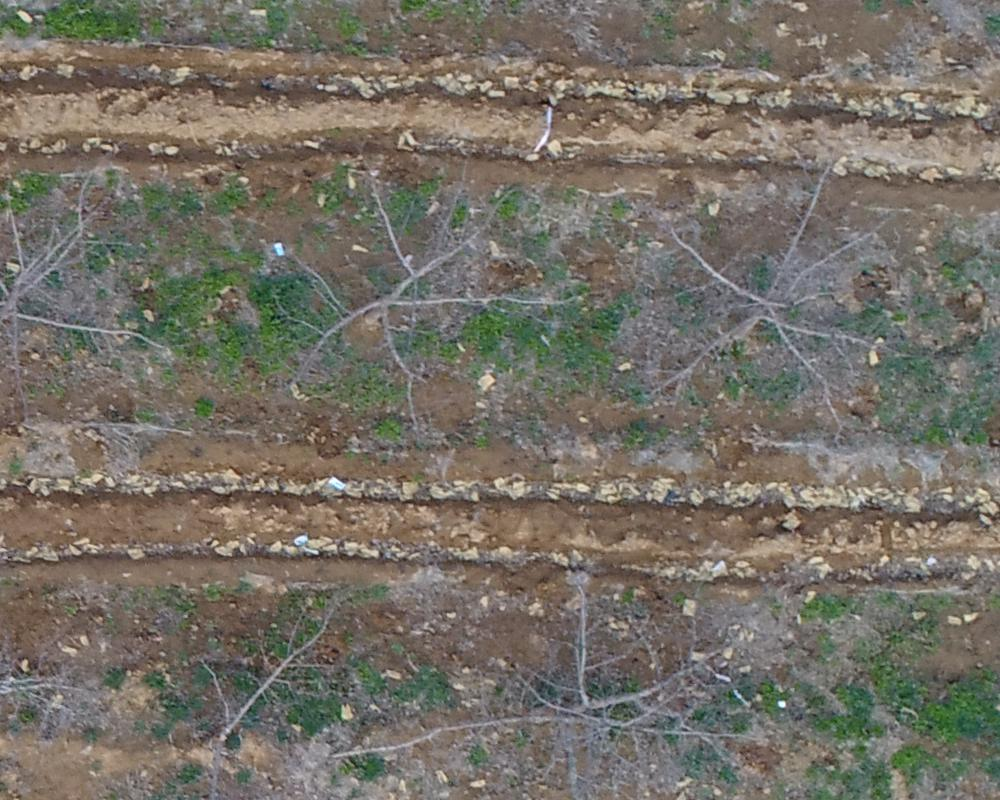apple: (242, 141, 594, 433), (605, 152, 932, 443), (361, 585, 739, 790), (155, 584, 368, 790), (10, 173, 157, 383)
